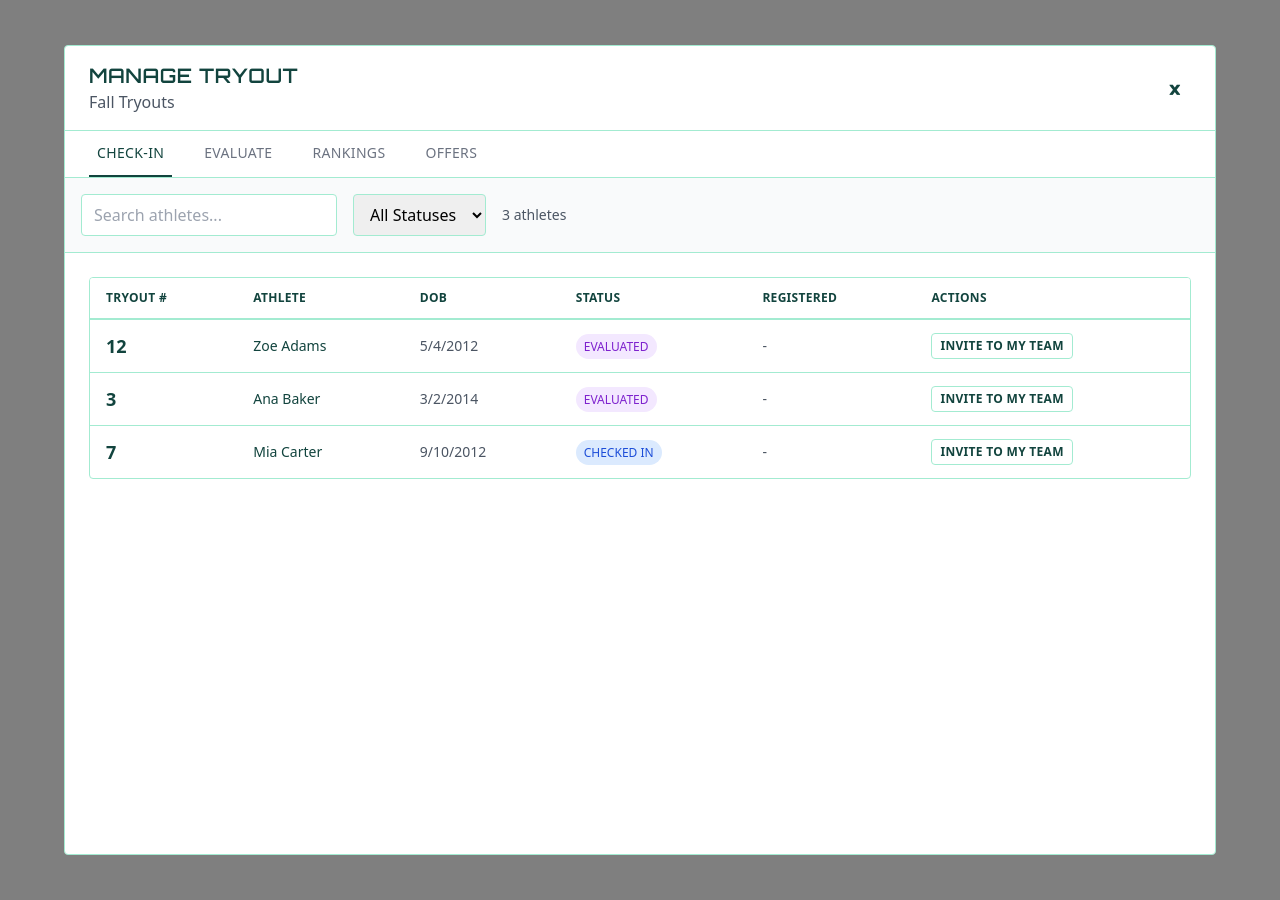
Test: TryoutManagement evaluations toolbar › keeps the toolbar on screen when the filters match nothing
This screenshot has width=1280, height=900.
Expected: the text "Zoe Adams" is shown, x1=253 y1=336 x2=326 y2=355
Click the button "Evaluate" at [238, 154], box x1=196 y1=131 x2=280 y2=177
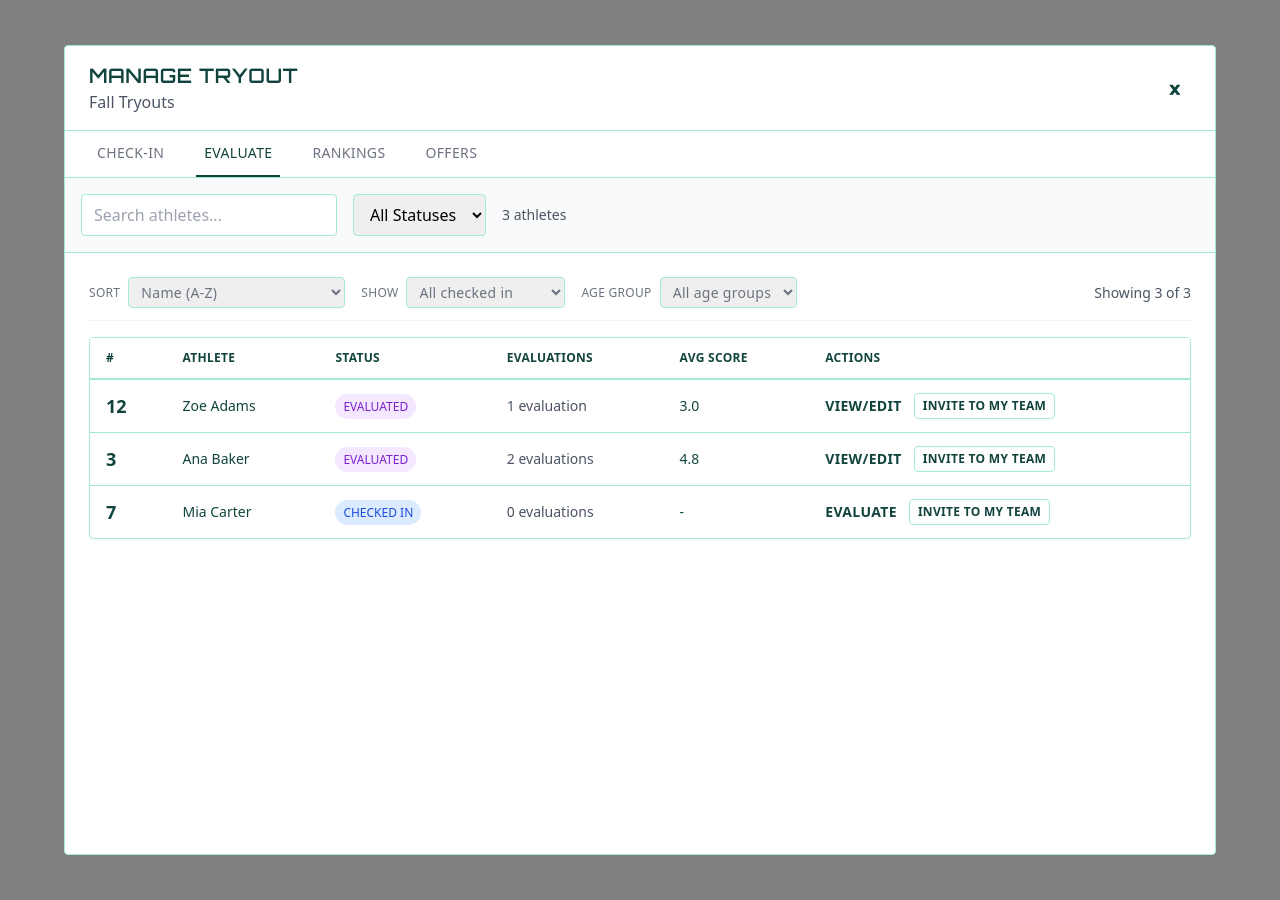
Expected: the dropdown named "Sort evaluations" is shown, x1=128 y1=277 x2=345 y2=308
Select "Not yet evaluated" in the dropdown named "Filter evaluations by status" at [486, 292], box x1=406 y1=277 x2=565 y2=308
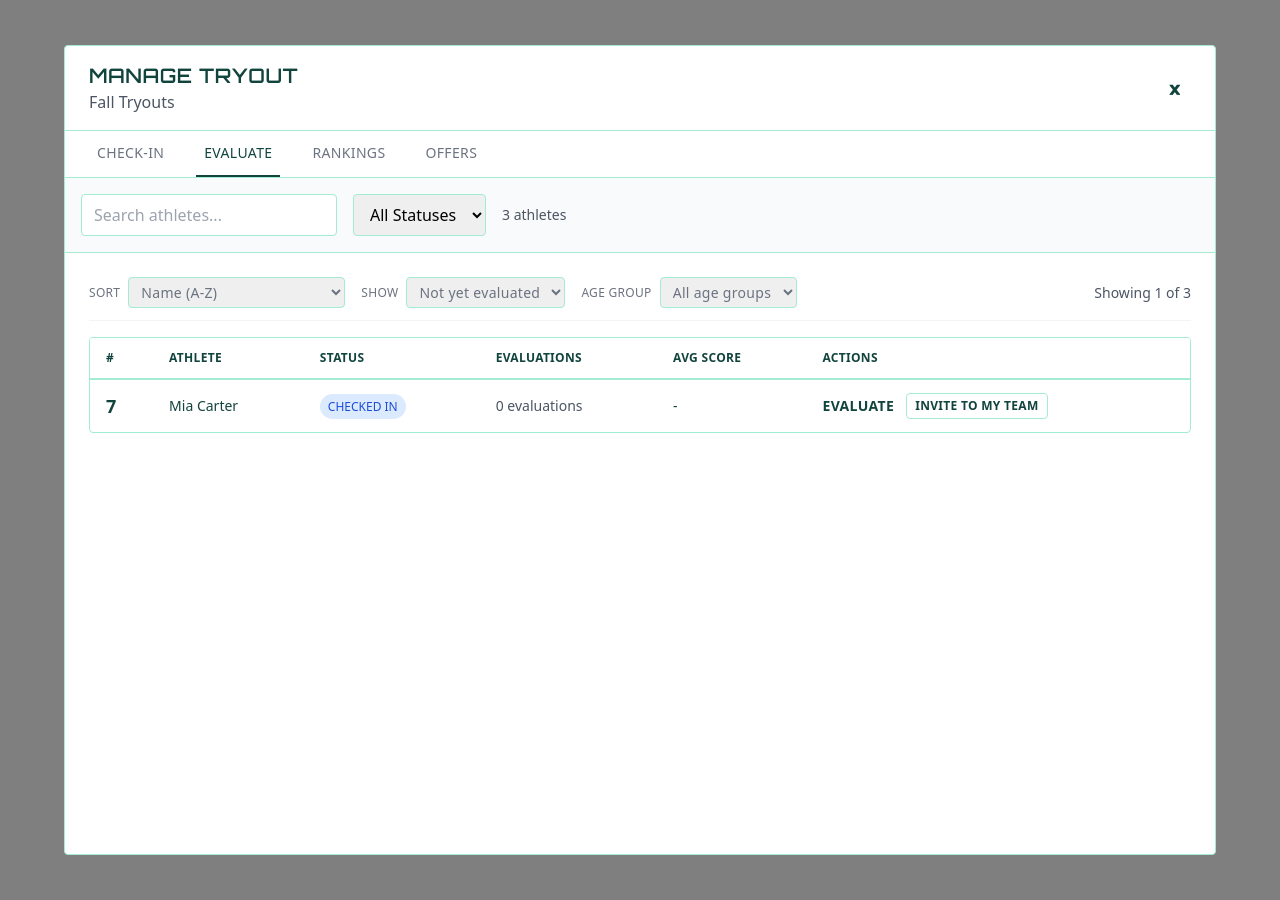
Select "U13" in the dropdown named "Filter evaluations by age group" at [728, 292], box x1=660 y1=277 x2=797 y2=308
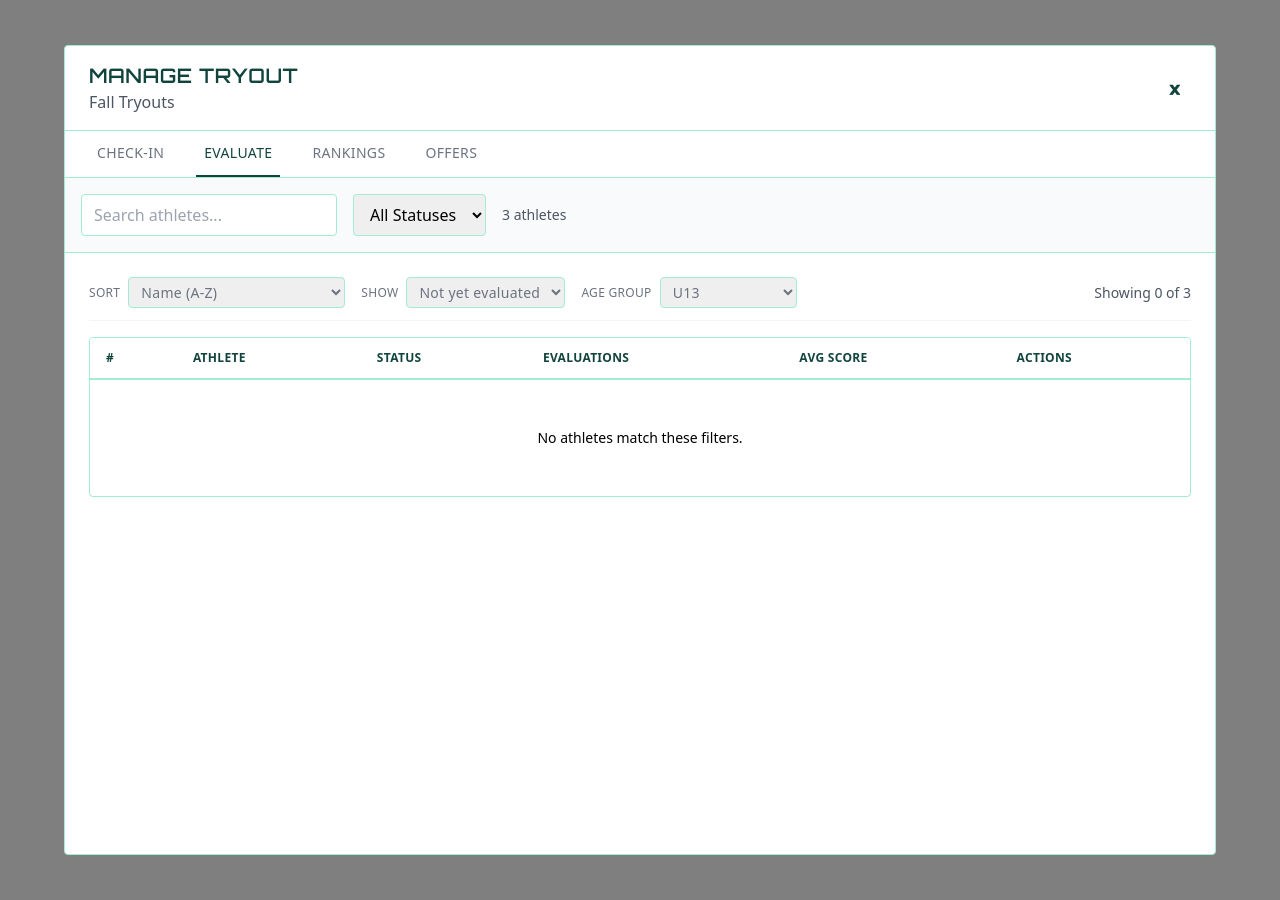
Expected: the text "No athletes match these filters." is shown, x1=537 y1=428 x2=743 y2=447
